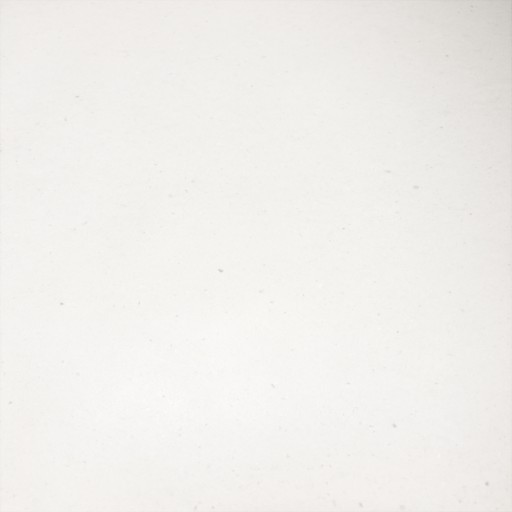lego: (217, 218, 294, 292)
